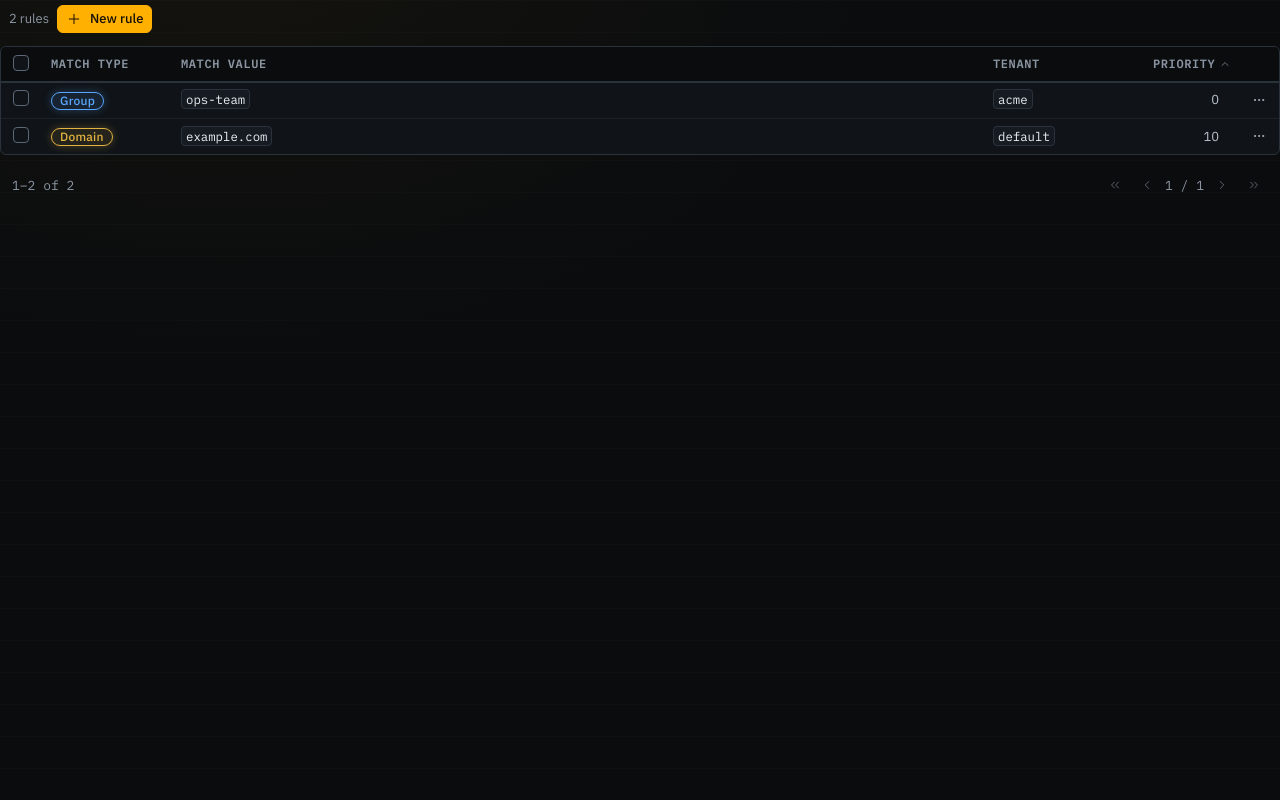
Test case: TenantRoutingPage › clicking a row opens TenantMatchEditor in edit mode
Step 1. Click the text "ops-team" → (216,99), box [181,89,250,109]
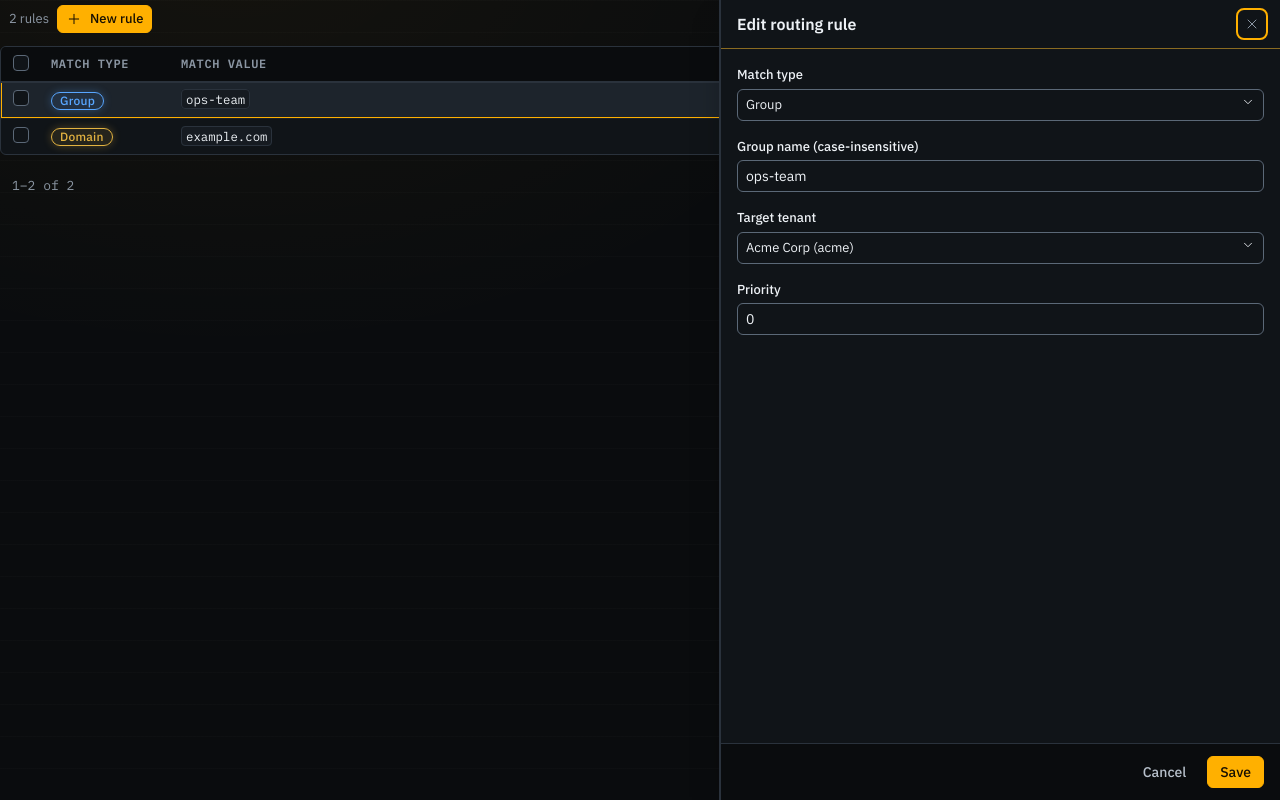
Expected: the button "Save" is shown, [1207,756,1264,788]
